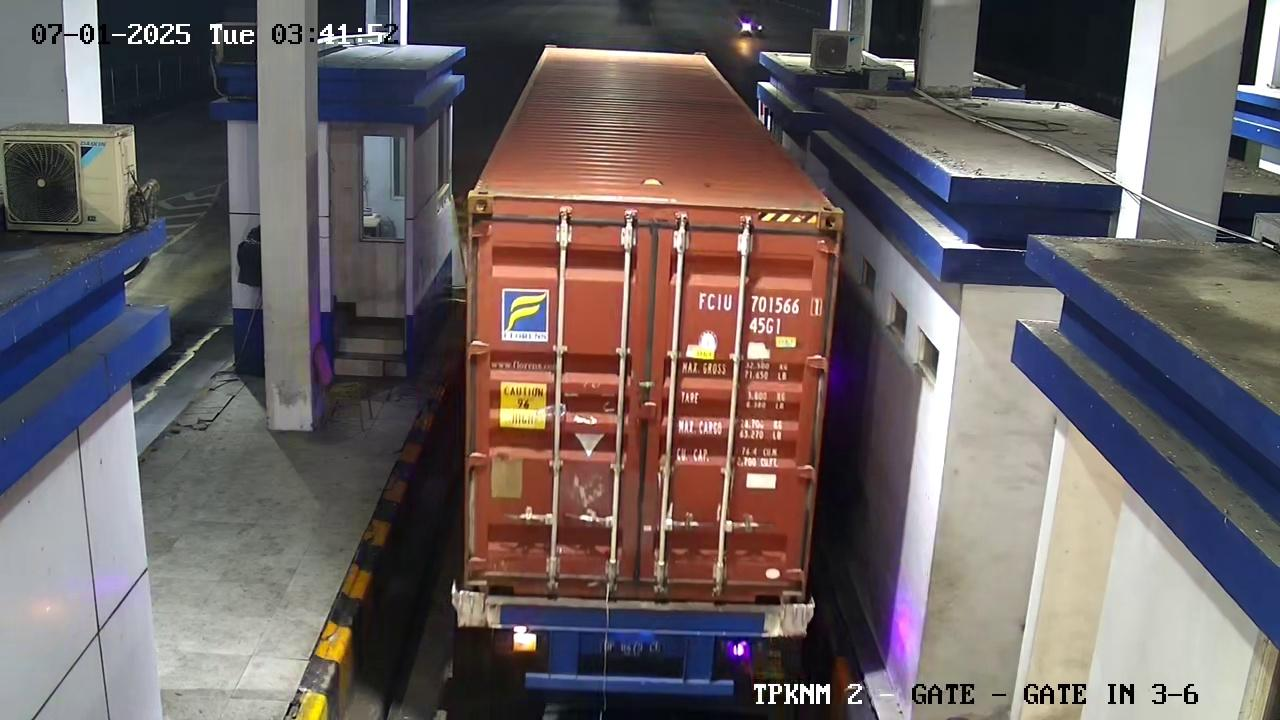Container_ID: (683, 279, 837, 344)
